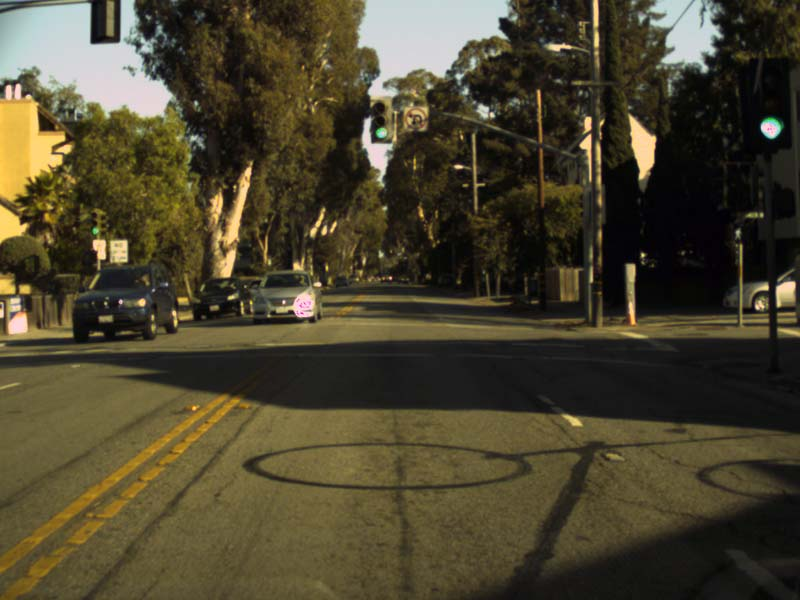Green: (743, 60, 793, 150), (369, 98, 393, 144), (90, 212, 97, 235)
